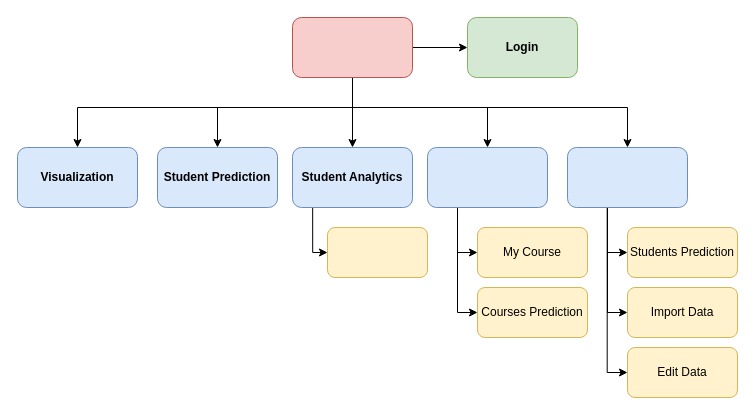
Image size: 755x415. Some labels were removed from this diagram. Each missing label, with the centre of its shape:
"Curriculum Committee" belongs at pixel 627 177.
"Home" belongs at pixel 352 47.
"Results" belongs at pixel 377 252.
"Teacher" belongs at pixel 487 177.
